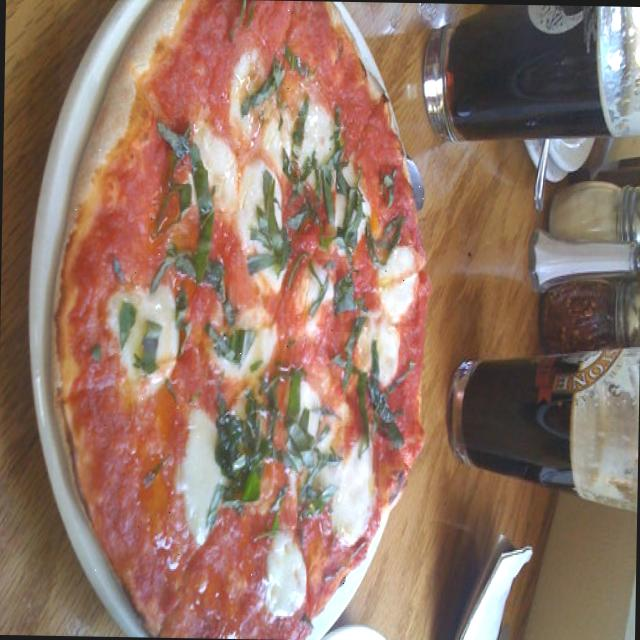basil: (152, 116, 218, 279), (157, 241, 237, 314), (217, 397, 273, 500), (354, 378, 404, 440), (292, 168, 335, 235), (252, 203, 291, 274), (282, 372, 308, 471), (243, 65, 290, 114), (203, 320, 253, 363), (332, 268, 365, 331), (374, 215, 409, 262), (139, 448, 174, 492), (331, 339, 358, 386), (344, 184, 362, 250), (378, 163, 400, 207)
cheese: (102, 282, 178, 384), (234, 158, 288, 284), (327, 424, 379, 548), (177, 404, 223, 544), (268, 117, 340, 197), (200, 314, 281, 379), (182, 124, 238, 213), (282, 372, 322, 490), (262, 528, 312, 620), (235, 42, 275, 146), (376, 242, 419, 326), (336, 170, 374, 258), (358, 316, 398, 394), (298, 258, 335, 326)
pizza: (55, 0, 429, 636)
